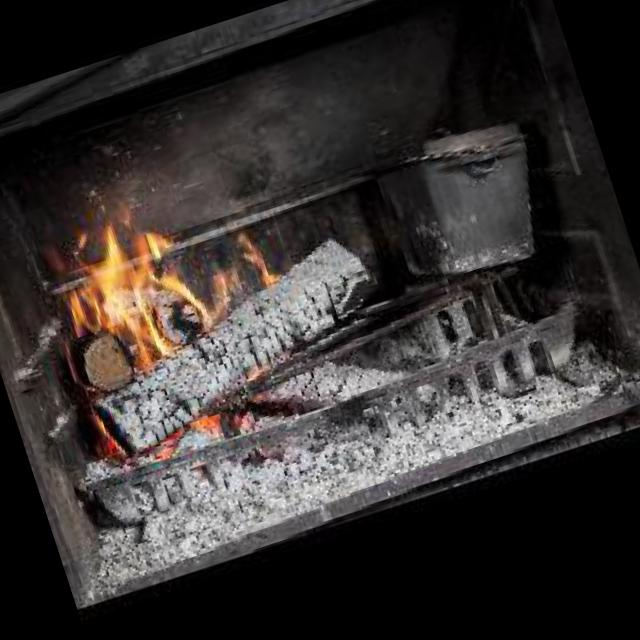fire: (8, 129, 288, 391)
